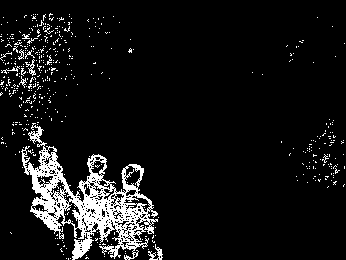person: (77, 153, 119, 250), (121, 163, 163, 259), (33, 171, 74, 231), (20, 125, 53, 173)
